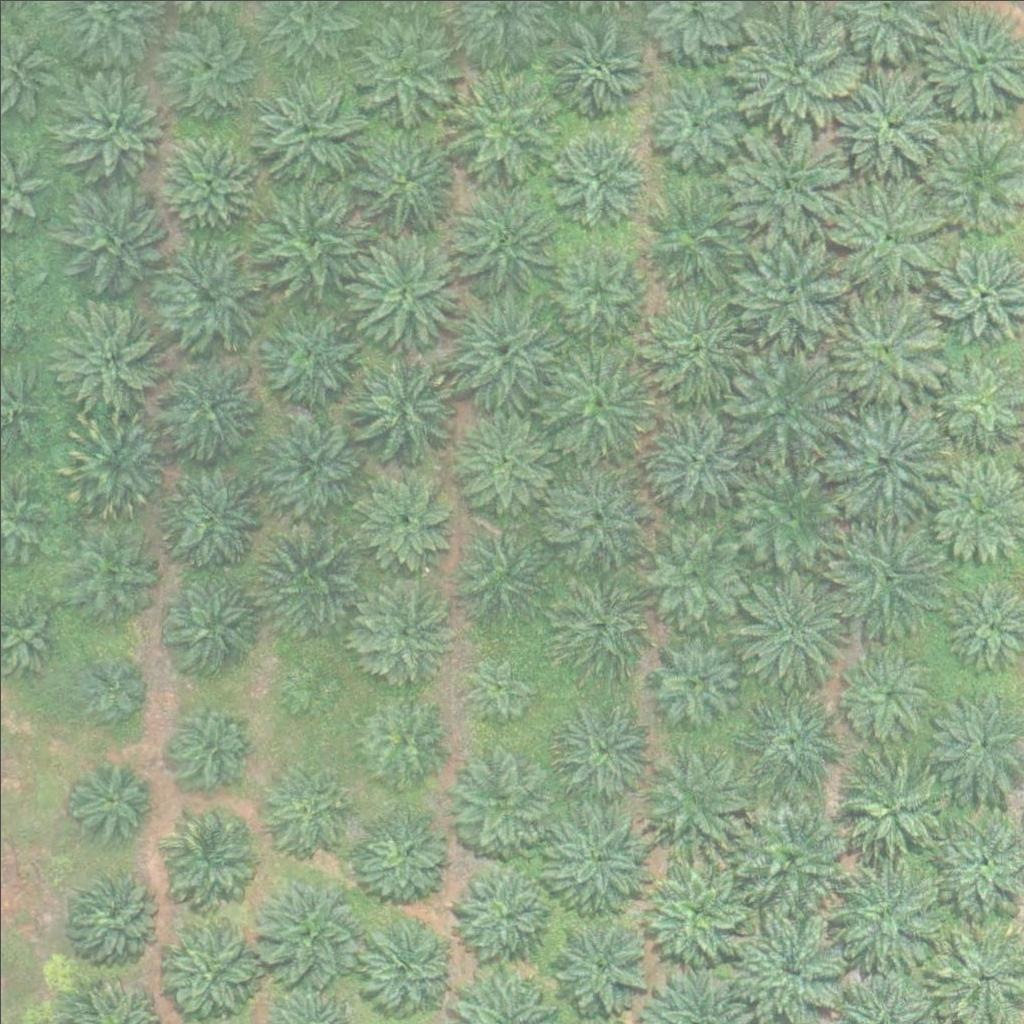Kelapa_Sawit: (255, 875, 368, 989), (736, 461, 849, 575), (830, 525, 943, 639), (729, 351, 842, 465), (444, 185, 557, 299), (346, 9, 459, 123), (57, 406, 170, 519), (154, 565, 267, 678), (538, 797, 651, 910), (637, 851, 750, 964), (826, 852, 939, 965), (835, 753, 948, 866), (830, 404, 943, 517), (829, 291, 942, 404), (734, 232, 847, 345), (732, 126, 845, 239), (738, 11, 851, 124), (540, 353, 653, 466), (443, 293, 556, 406), (349, 232, 462, 345), (347, 123, 460, 236), (53, 302, 166, 415), (58, 185, 171, 298), (54, 63, 167, 176), (642, 400, 754, 514), (634, 292, 746, 406), (444, 60, 556, 174), (735, 910, 847, 1023), (154, 457, 266, 570), (253, 528, 365, 641), (255, 406, 367, 519), (543, 456, 655, 569), (636, 740, 748, 853), (733, 800, 845, 913), (737, 688, 849, 801), (735, 576, 847, 689), (828, 179, 940, 292), (830, 73, 942, 186), (637, 178, 749, 291), (347, 352, 459, 465), (257, 299, 369, 412), (258, 183, 370, 296), (250, 69, 362, 182), (155, 236, 267, 349), (151, 12, 263, 125), (550, 912, 650, 1013), (62, 521, 162, 622), (251, 758, 351, 859), (353, 809, 453, 910), (349, 690, 449, 791), (357, 582, 457, 683), (357, 471, 457, 572), (453, 864, 553, 965), (452, 752, 552, 853), (450, 526, 550, 627), (452, 410, 552, 511), (552, 703, 652, 804), (555, 570, 655, 671), (642, 626, 742, 727), (642, 523, 742, 624), (645, 73, 745, 174), (543, 12, 643, 113), (161, 356, 261, 457), (158, 133, 258, 234), (360, 914, 460, 1014), (62, 864, 162, 964), (161, 804, 261, 904), (838, 645, 938, 745), (548, 126, 648, 226), (69, 752, 157, 840), (554, 241, 642, 329), (168, 700, 255, 788), (464, 646, 539, 721), (81, 657, 144, 720), (280, 654, 342, 717)
